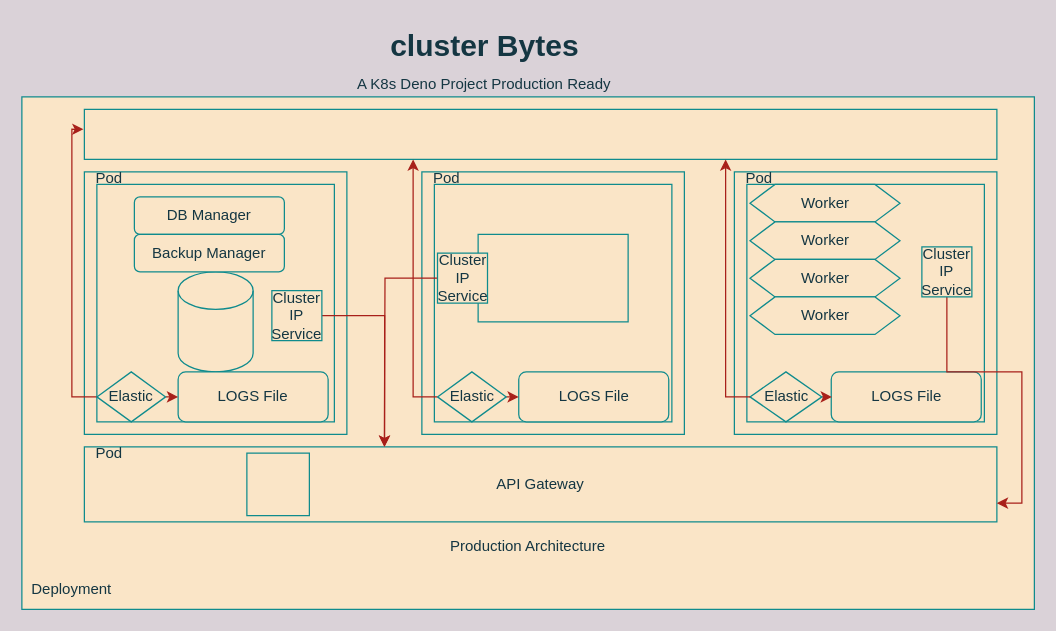
Image size: 1056x631. Some labels were removed from this diagram. Each missing label, with the centre of its shape:
"DB" goes at point (215, 321).
"Deno API" goes at point (552, 277).
"Ingress" goes at point (277, 484).
"Kafka Server as a Single Point of Truth" goes at point (540, 133).
